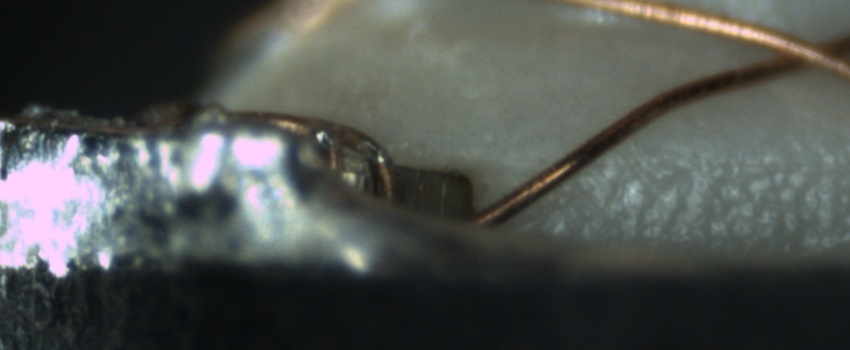CL: (757, 25, 846, 76)
DL: (593, 141, 849, 188)
TE: (207, 103, 402, 210)
